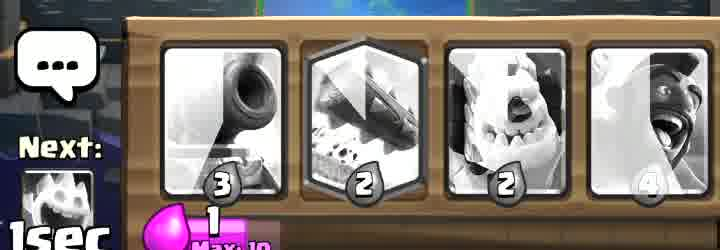ice-golem: (446, 54, 559, 199)
